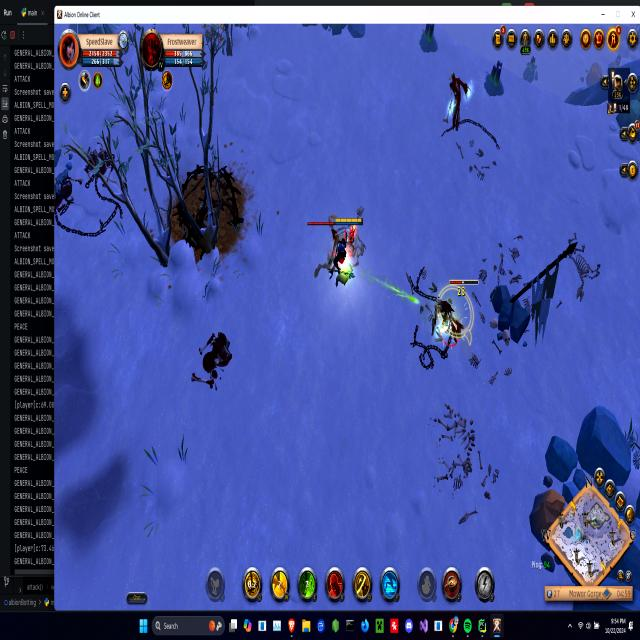ore: (432, 274, 479, 354), (308, 217, 350, 293), (445, 69, 471, 136)
player: (484, 55, 509, 107), (416, 20, 443, 60)
red: (327, 215, 368, 290)
